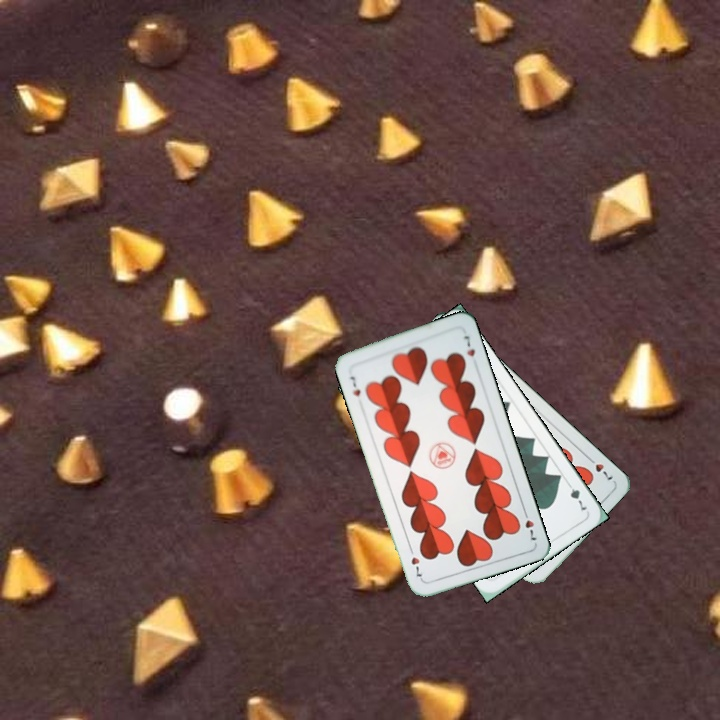G7: (562, 477, 590, 516)
H7: (583, 452, 616, 483), (519, 505, 539, 543), (346, 372, 363, 399)
